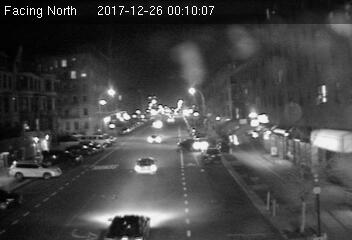car: (133, 158, 161, 176), (176, 138, 207, 150), (202, 145, 220, 163), (147, 133, 162, 143)
